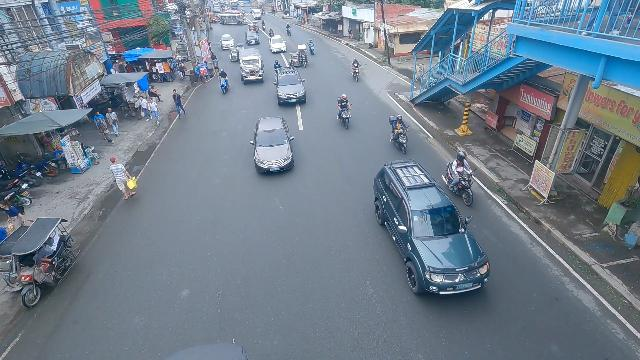car: (373, 158, 491, 298), (249, 117, 297, 174), (273, 66, 307, 106), (268, 35, 287, 54), (220, 34, 235, 50), (244, 31, 260, 46), (229, 46, 241, 63)
jeepney: (237, 49, 266, 86), (220, 13, 248, 25), (207, 12, 220, 23)
motorcycle: (447, 151, 473, 193), (389, 114, 408, 144), (337, 94, 353, 128), (217, 69, 230, 95), (350, 58, 361, 82), (273, 60, 282, 80), (308, 38, 315, 55), (285, 22, 291, 36), (269, 27, 274, 37), (262, 20, 266, 30)
